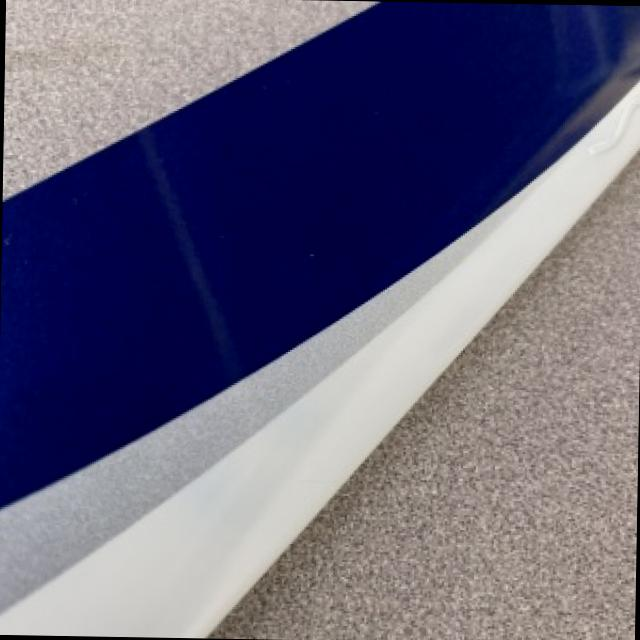healthy: (0, 0, 640, 632)
